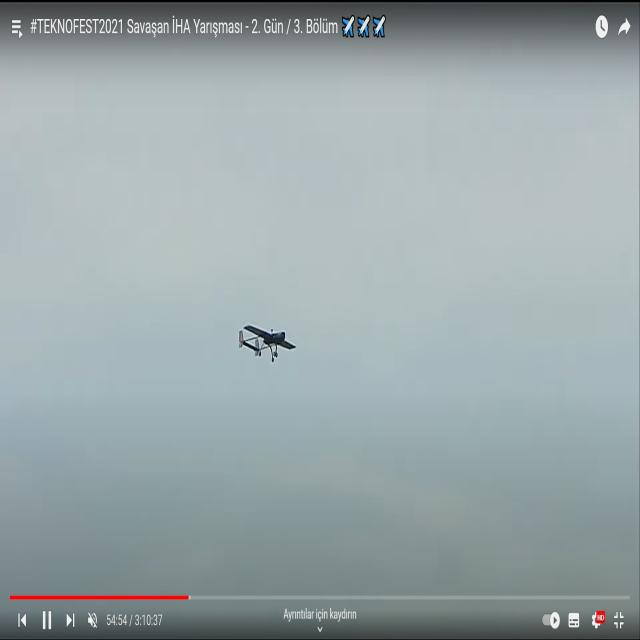iha: (230, 325, 291, 361)
